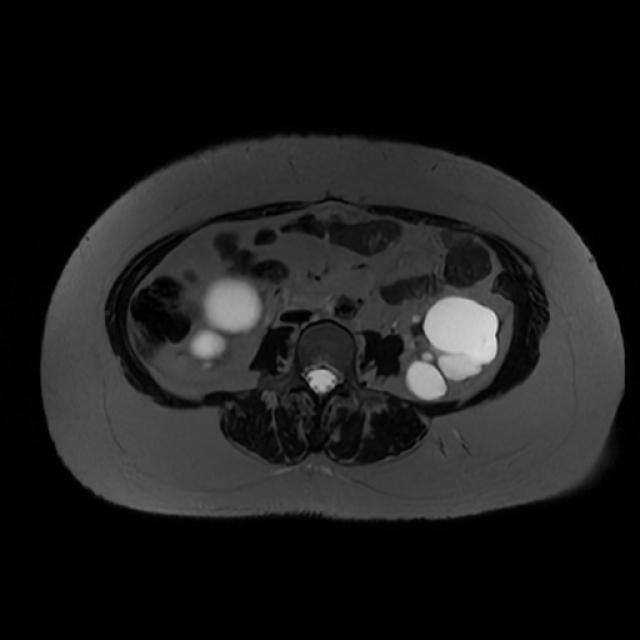sag: (190, 279, 263, 366)
sol: (404, 300, 499, 399)
